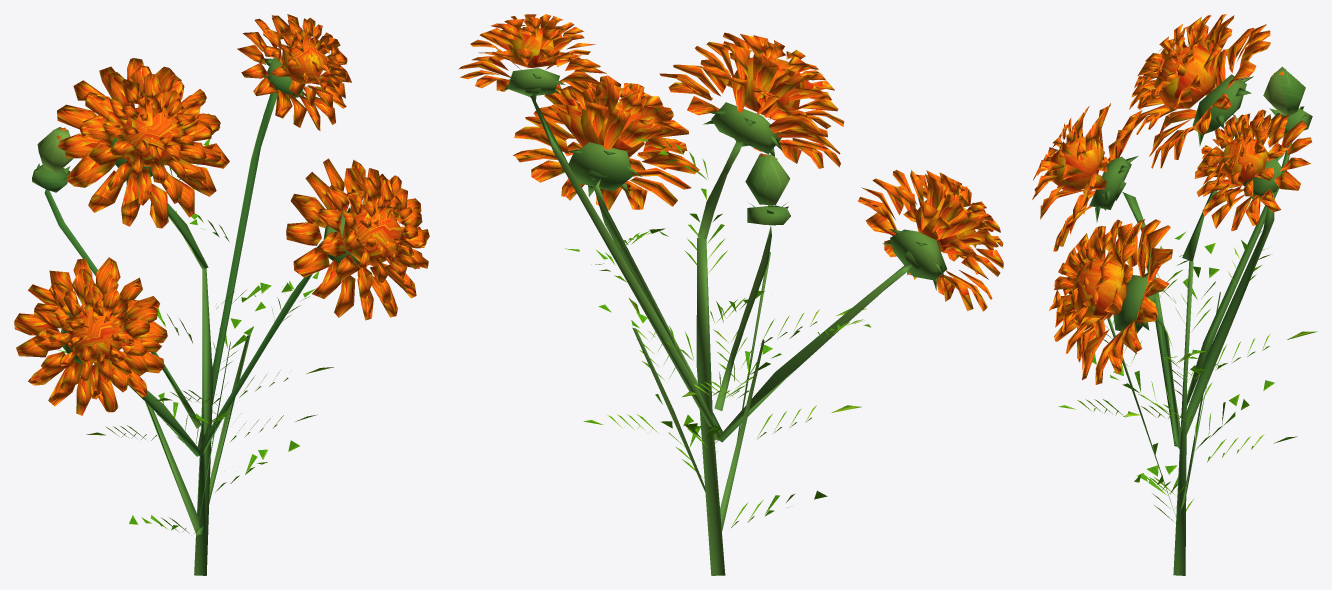
Rendered from NP_Marigold_Ready_LOD1.fbx.
The picture shows the model from 3 angles, left to right: view 1: azimuth 30°, elevation 25°; view 2: azimuth 150°, elevation 25°; view 3: azimuth 270°, elevation 25°; orthographic projection. The views are drawn at different scales.
Visible parts, largest first — view 1: NP_Marigold_Ready; view 2: NP_Marigold_Ready; view 3: NP_Marigold_Ready.
Part boxes in pixels (x1,y1,x2,y2): NP_Marigold_Ready: [14, 14, 429, 575]; NP_Marigold_Ready: [458, 14, 1003, 575]; NP_Marigold_Ready: [1032, 14, 1317, 575].
Size of the model in its own units: 64.56 by 74.69 by 36.66.
